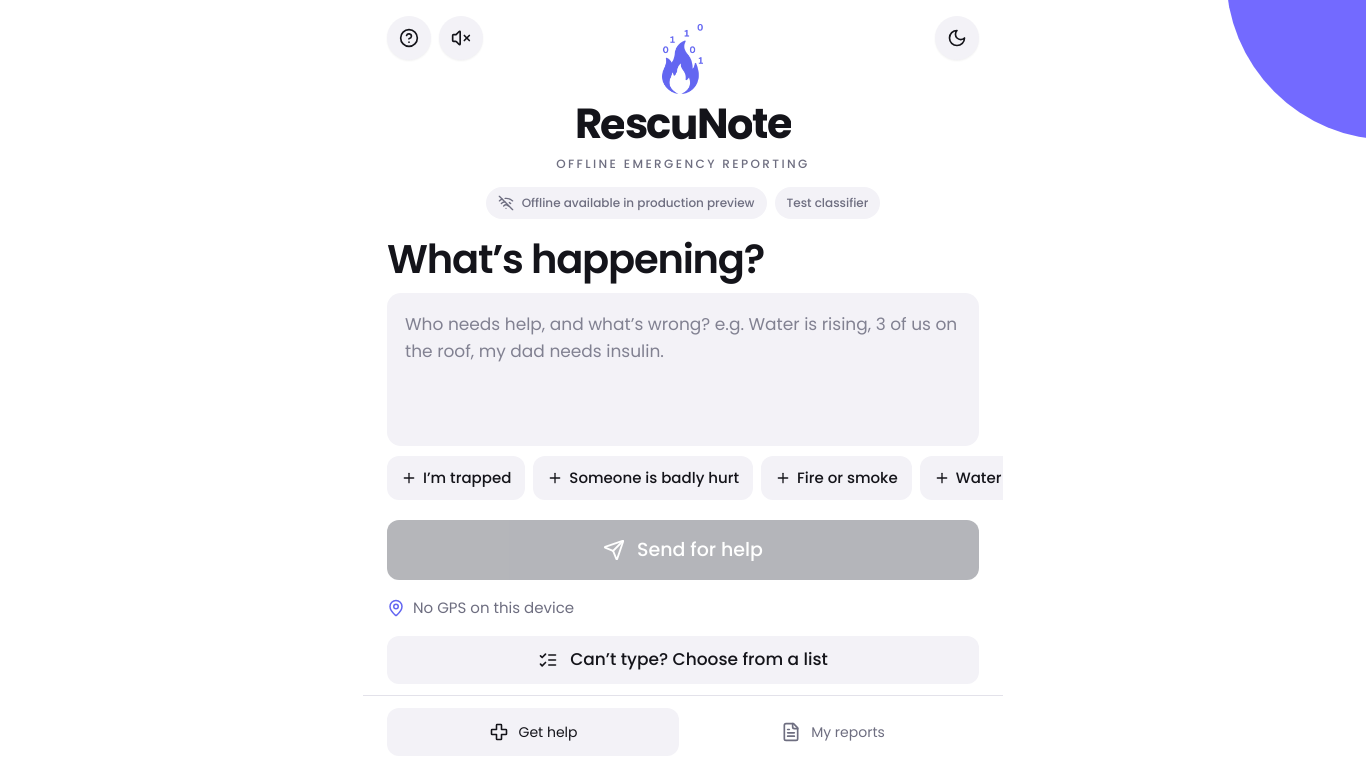
Test: offers manual mode on analysis failure and supports empty manual entry
Type "Help" into the text box named "What’s happening? Who needs help?".
click(683, 369); type("Help")  # box top-left (387, 293), bottom-right (979, 446)
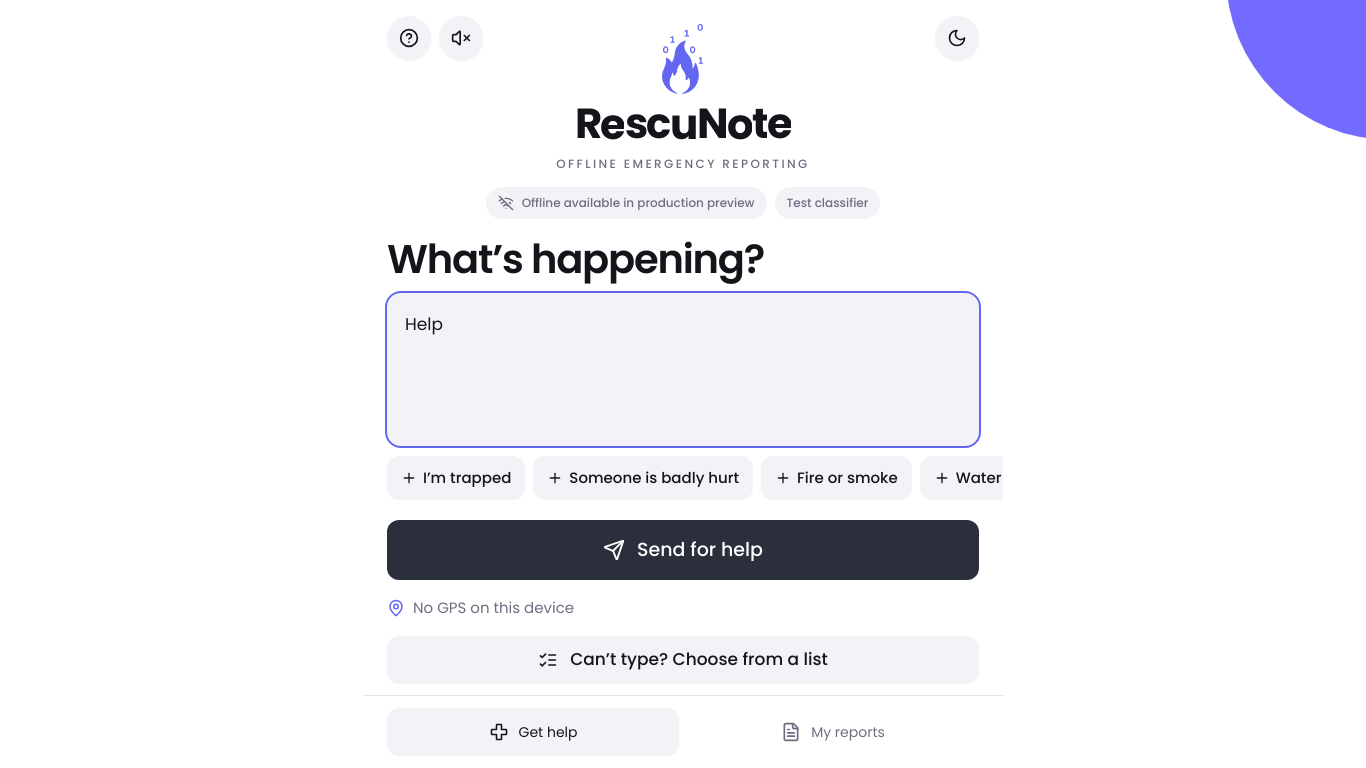
Click the button "Send for help".
click(683, 550)  # box top-left (387, 520), bottom-right (979, 580)
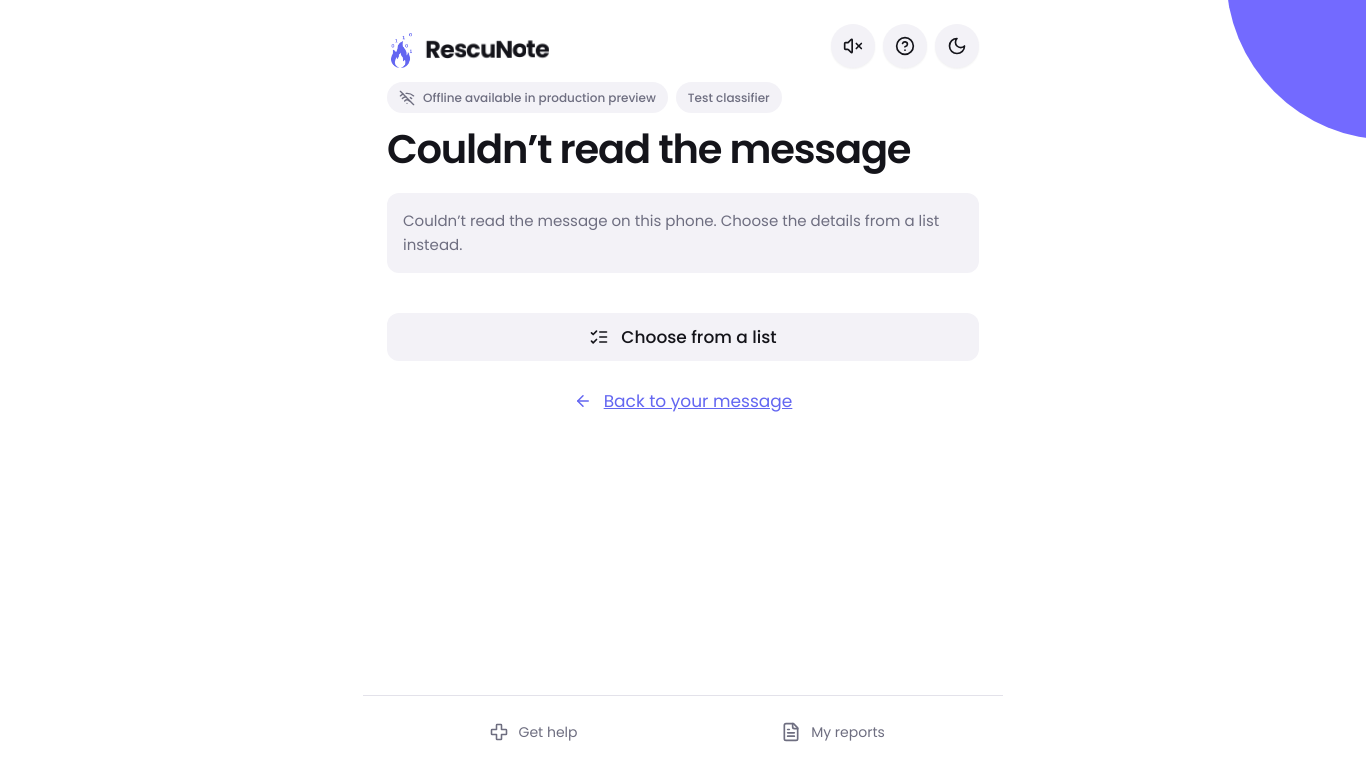
expect the 3rd message shows "Couldn’t read the message": met, box top-left (403, 210), bottom-right (939, 255)
Click the button "Choose from a list".
click(683, 337)  # box top-left (387, 313), bottom-right (979, 361)
(page scrolled)
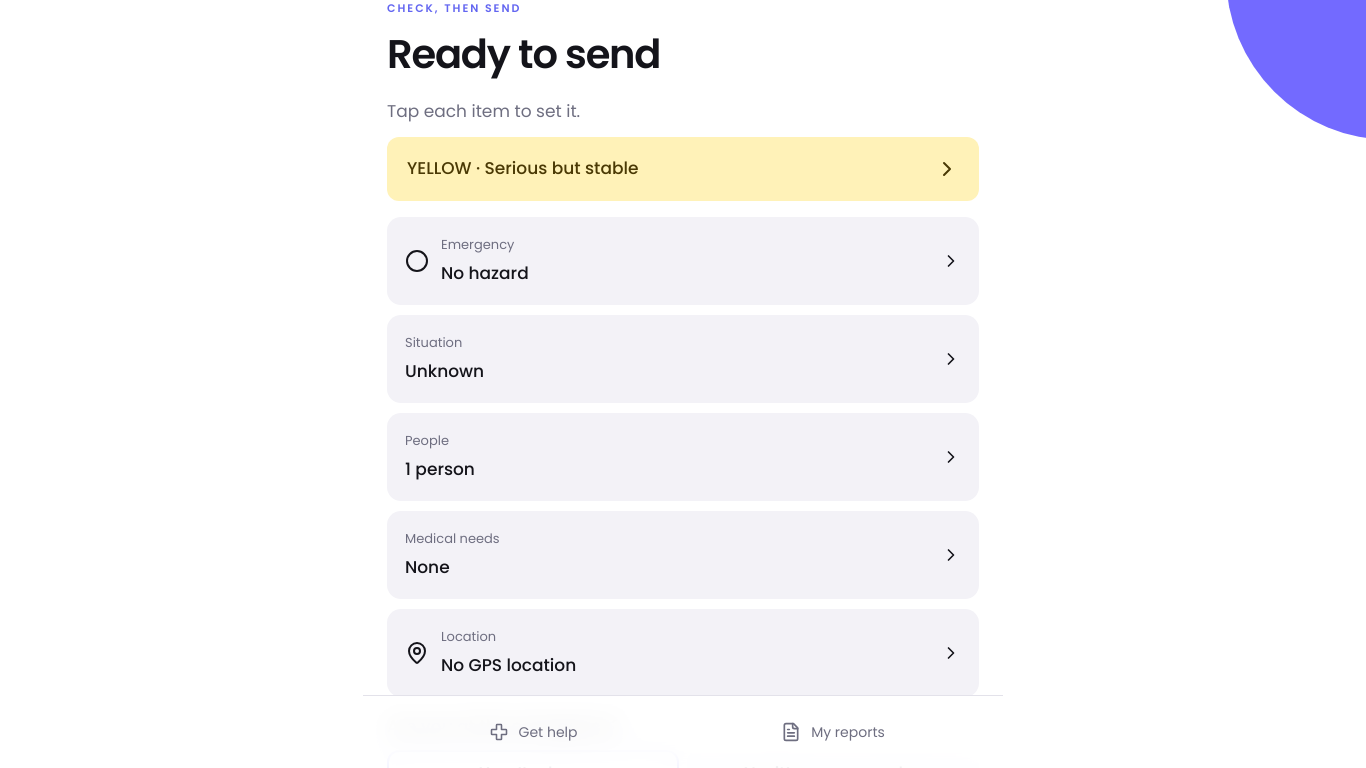
expect the heading "Ready to send" is shown: met, box top-left (387, 26), bottom-right (660, 82)
expect the text "Tap each item to set it." is shown: met, box top-left (387, 99), bottom-right (580, 123)
